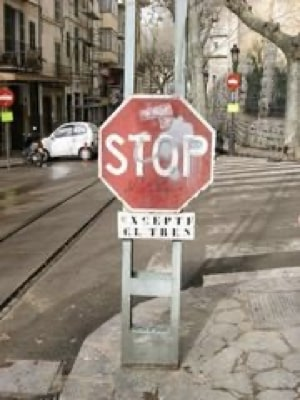StopSign: (96, 92, 217, 213)
